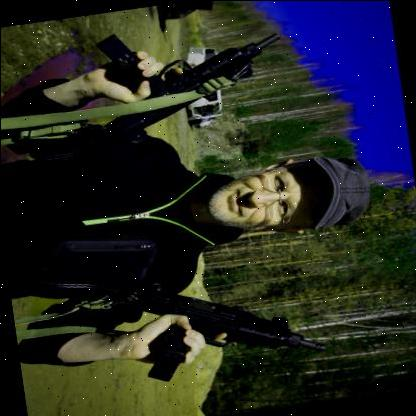rifle: (105, 260, 330, 391), (88, 11, 294, 151)
